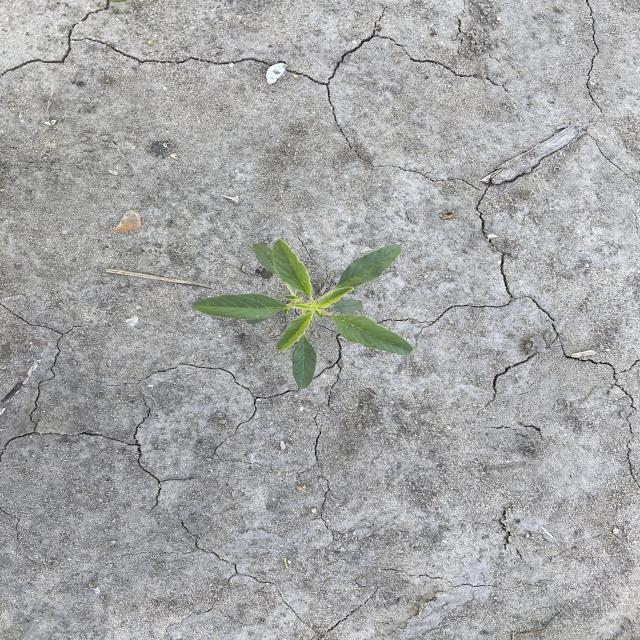Waterhemp: (190, 238, 418, 392)
